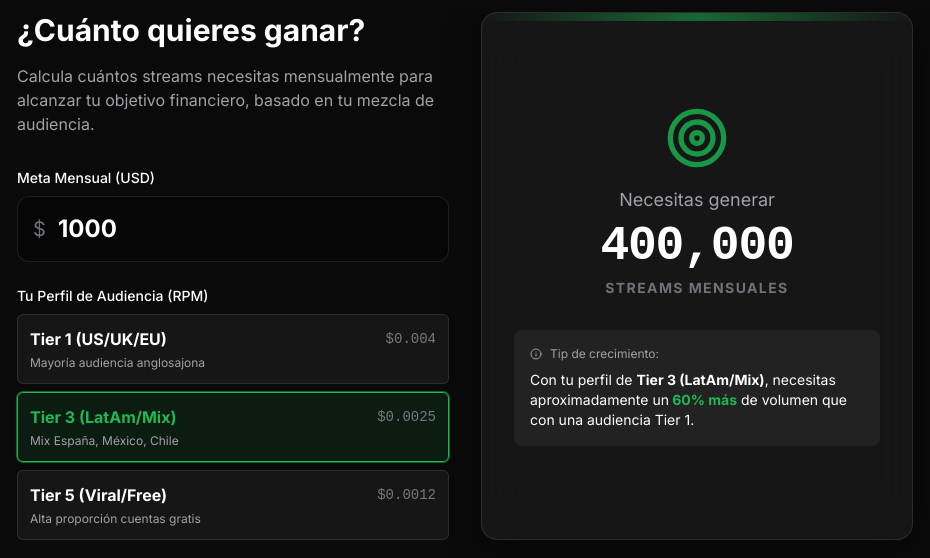
Test: GoalCalculator › should adapt the growth tip to the selected audience profile
Click the text "Tier 1 (US/UK/EU)" at (98, 339), box 30,327 -> 167,351
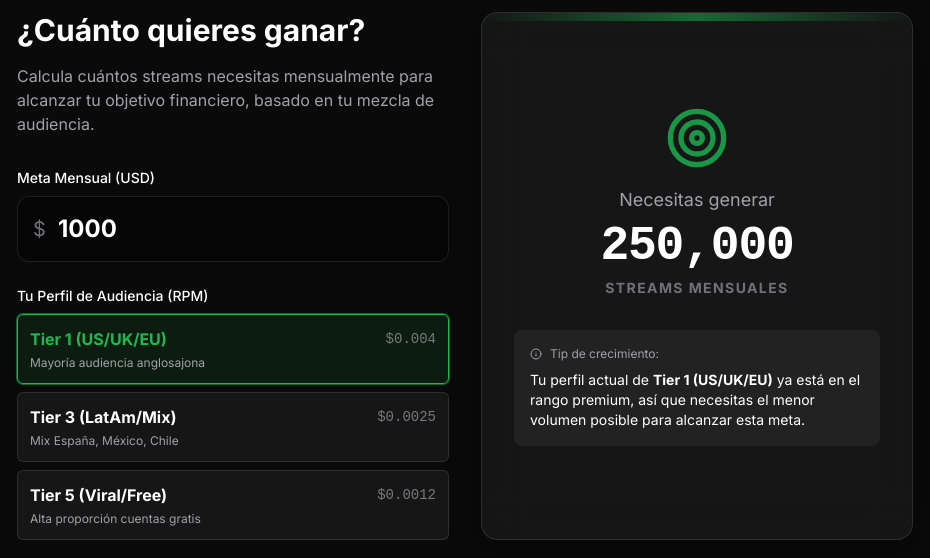
Check: the text "rango premium" is shown, box 530,371 -> 860,428
Click the text "Tier 5 (Viral/Free)" at (99, 495), box 30,483 -> 167,507
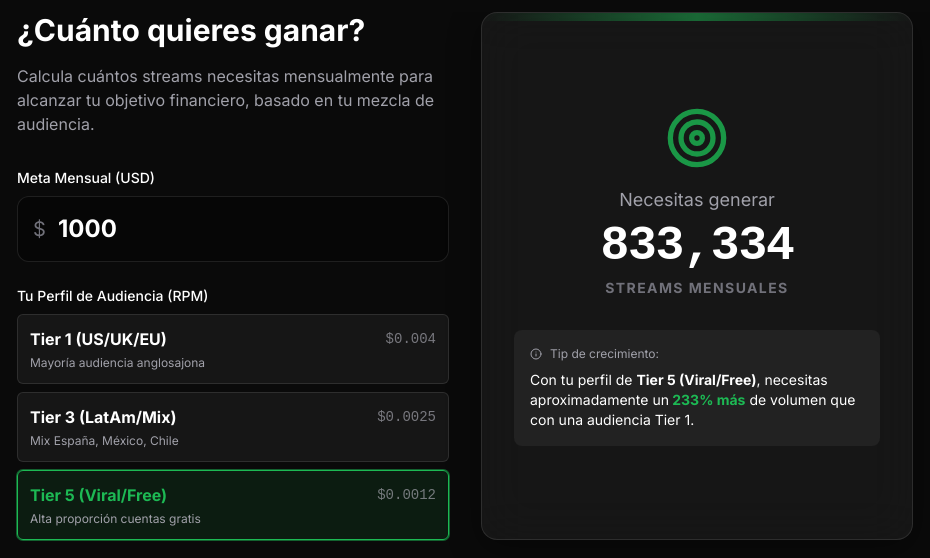
Check: the text "233% más" is shown, box 669,391 -> 745,408
